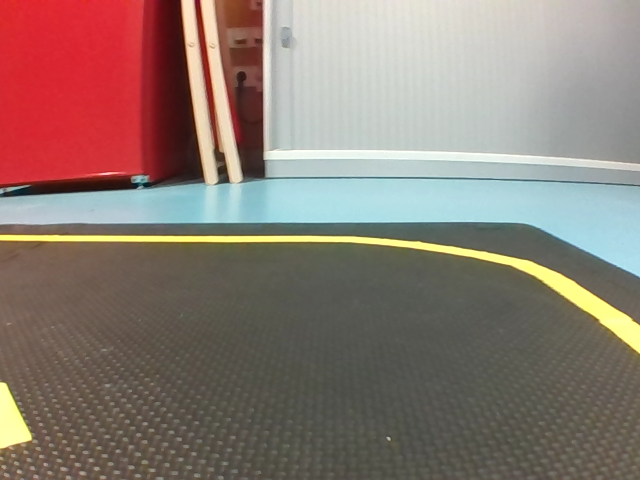30: (444, 74, 486, 128)
no30: (22, 103, 47, 145)
